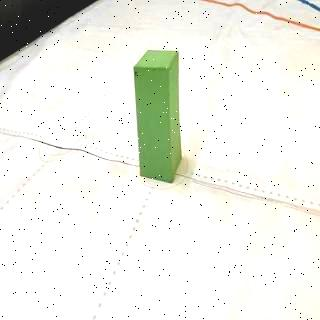greenbox: (132, 50, 182, 182)
